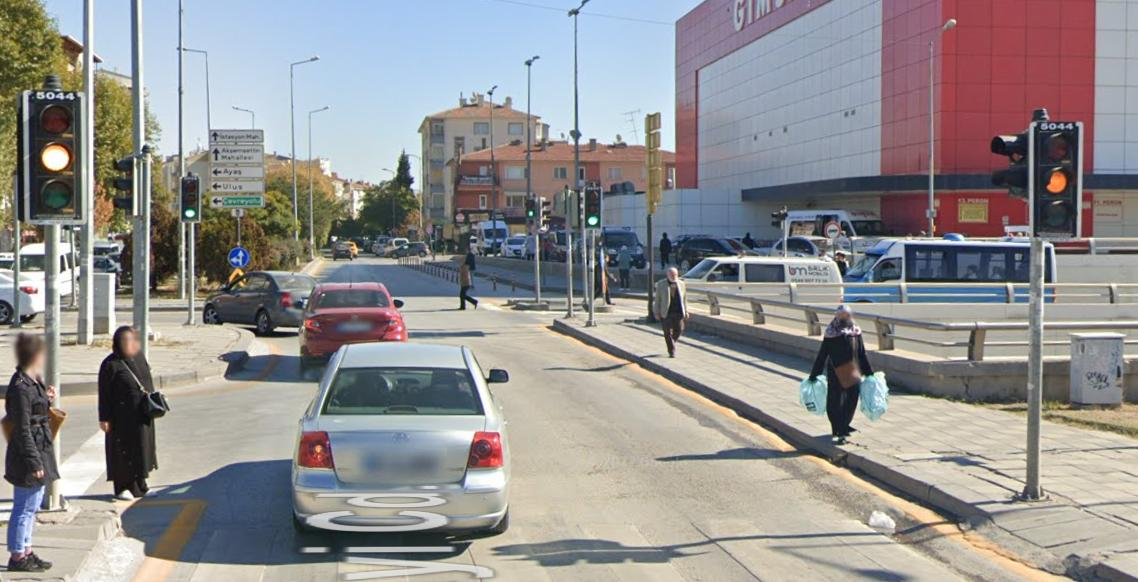greenlight: (179, 177, 201, 221), (585, 183, 600, 230), (525, 196, 535, 223)
yellowlight: (1030, 122, 1083, 231)
